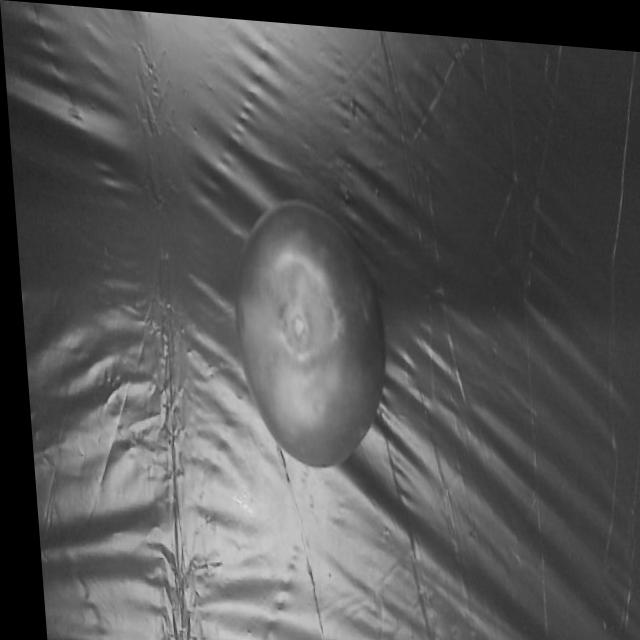sari: (212, 175, 403, 464)
